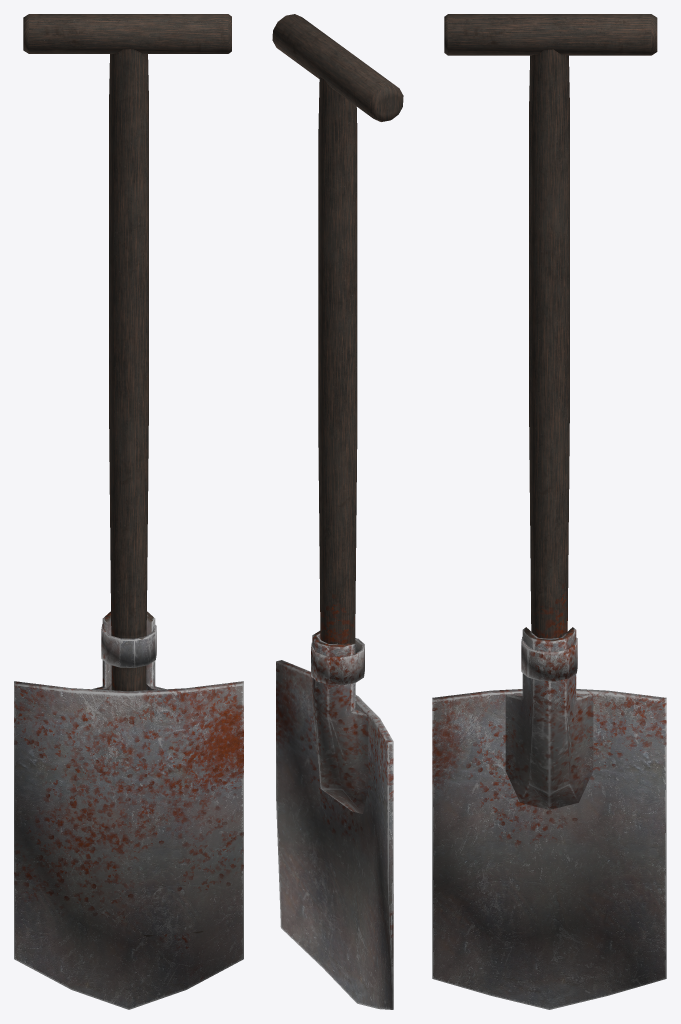
The model's file is Shovel.fbx.
3 renders of one model, left to right at view 1: azimuth 90°, elevation 25°; view 2: azimuth 210°, elevation 25°; view 3: azimuth 270°, elevation 25°, orthographic. The views are drawn at different scales.
Parts seen in each view (by area): view 1: Shovel; view 2: Shovel; view 3: Shovel.
Boxes of the visible parts, box(x1,y1,x2,y2) form: Shovel: box(14, 14, 243, 1009); Shovel: box(272, 14, 403, 1009); Shovel: box(432, 14, 666, 1009).
Bounding box in the file's own units: 4.08 × 79.98 × 16.94.
